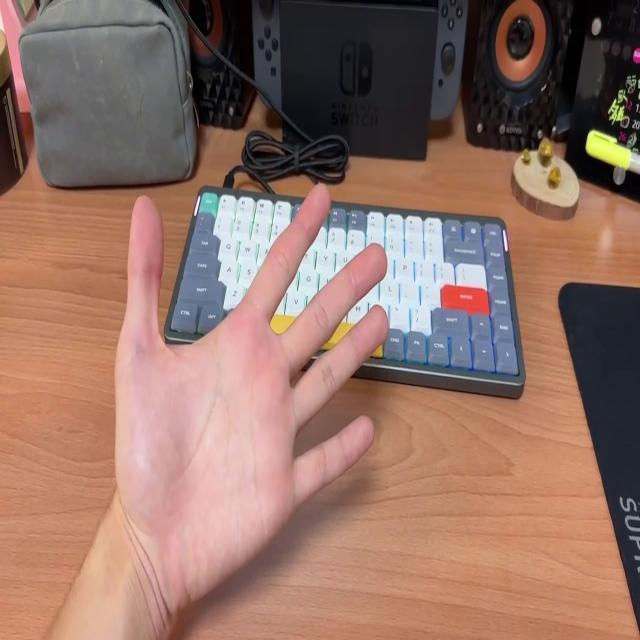keyboard-with-hands: (166, 185, 518, 386)
